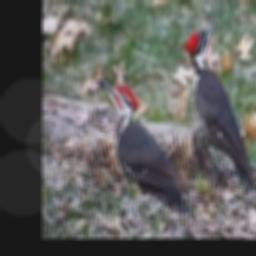Woodpecker: (183, 20, 256, 197), (98, 78, 192, 200)
